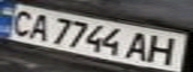4: (100, 25, 127, 58), (81, 21, 106, 54)
7: (45, 15, 75, 46), (63, 18, 87, 50)
A: (124, 29, 157, 62), (21, 11, 54, 43)
C: (0, 7, 42, 37)
H: (142, 33, 187, 66)
